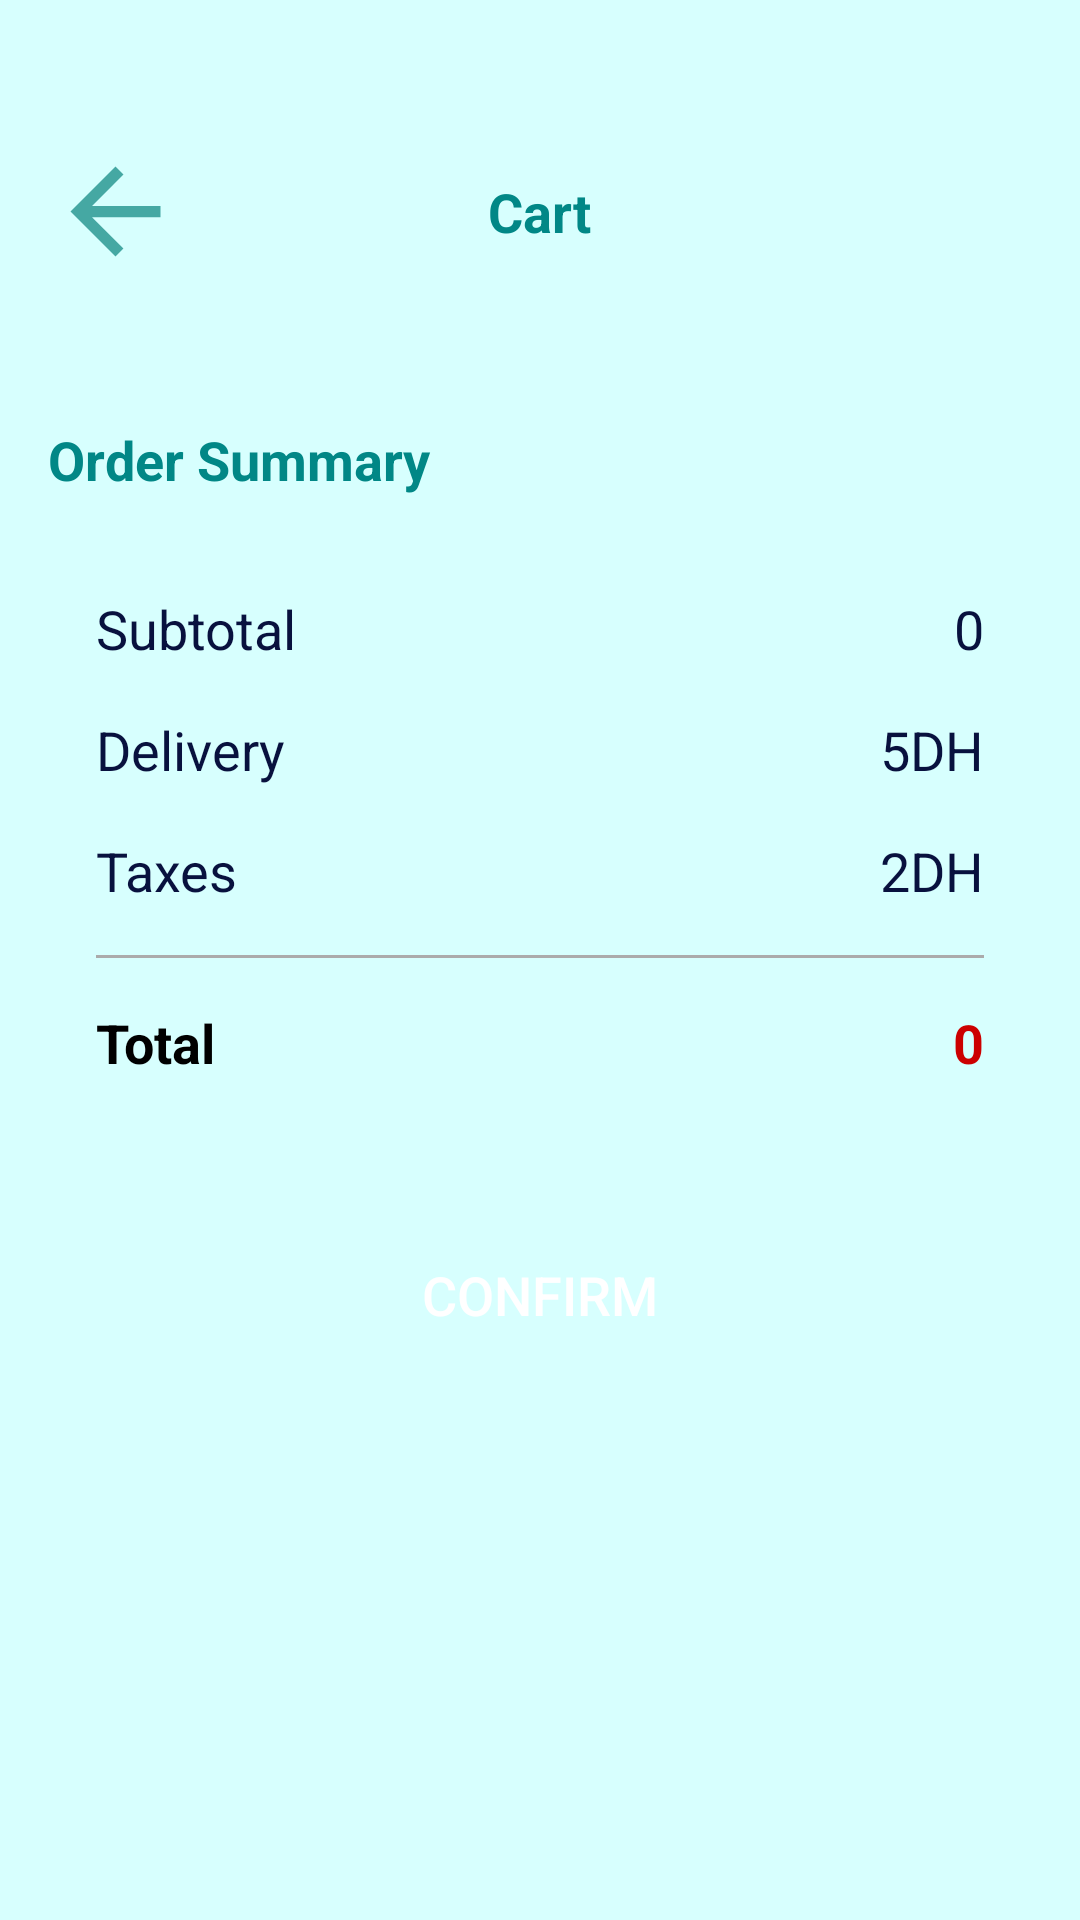

Icon click points for this 1080px x 1920px phone screenshot, format (x,y):
arrow back: (115,211)
